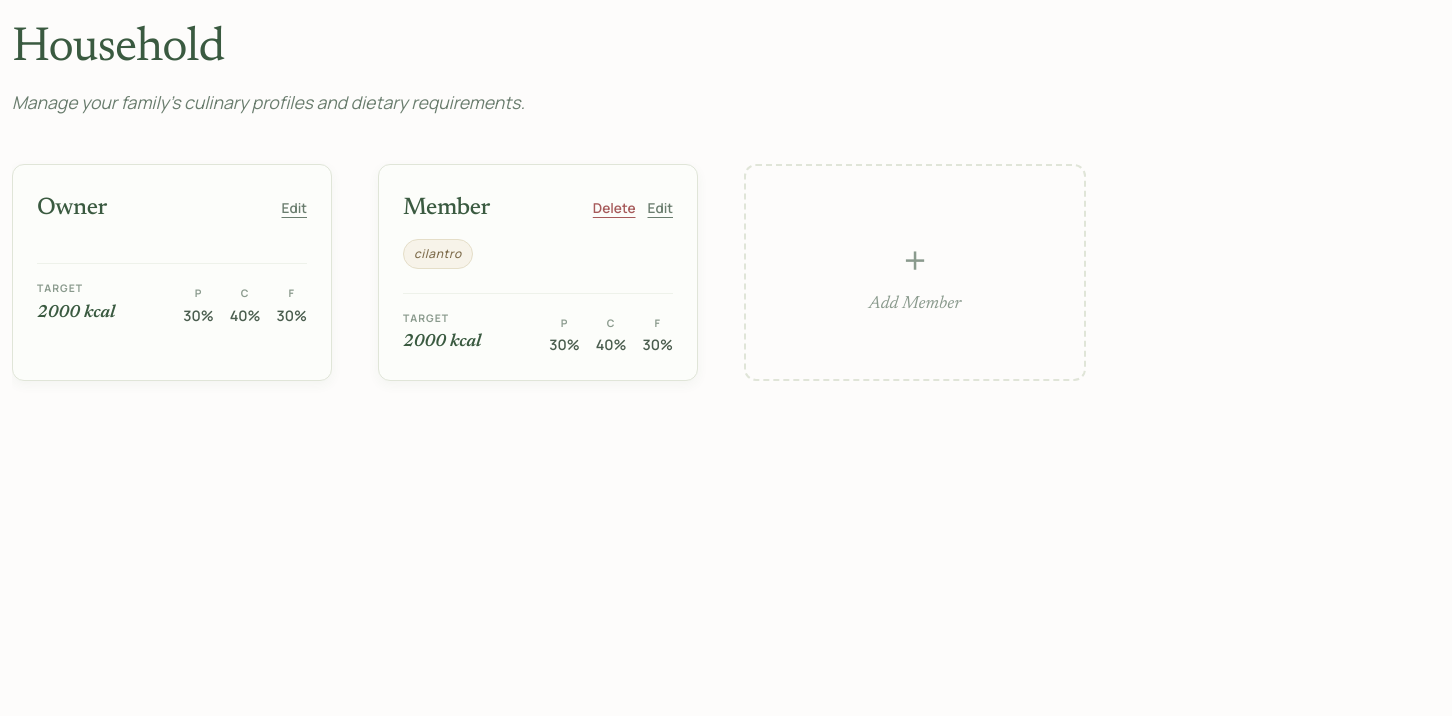
Test: Household Page Refinements › validates macros in ProfileForm (Manual Mode)
Expected: the heading "Member" is shown, [403,189,490,227]
Click edit on member
Click the 2nd button "Edit": {"x": 660, "y": 208} [648,199,673,217]
(page scrolled)
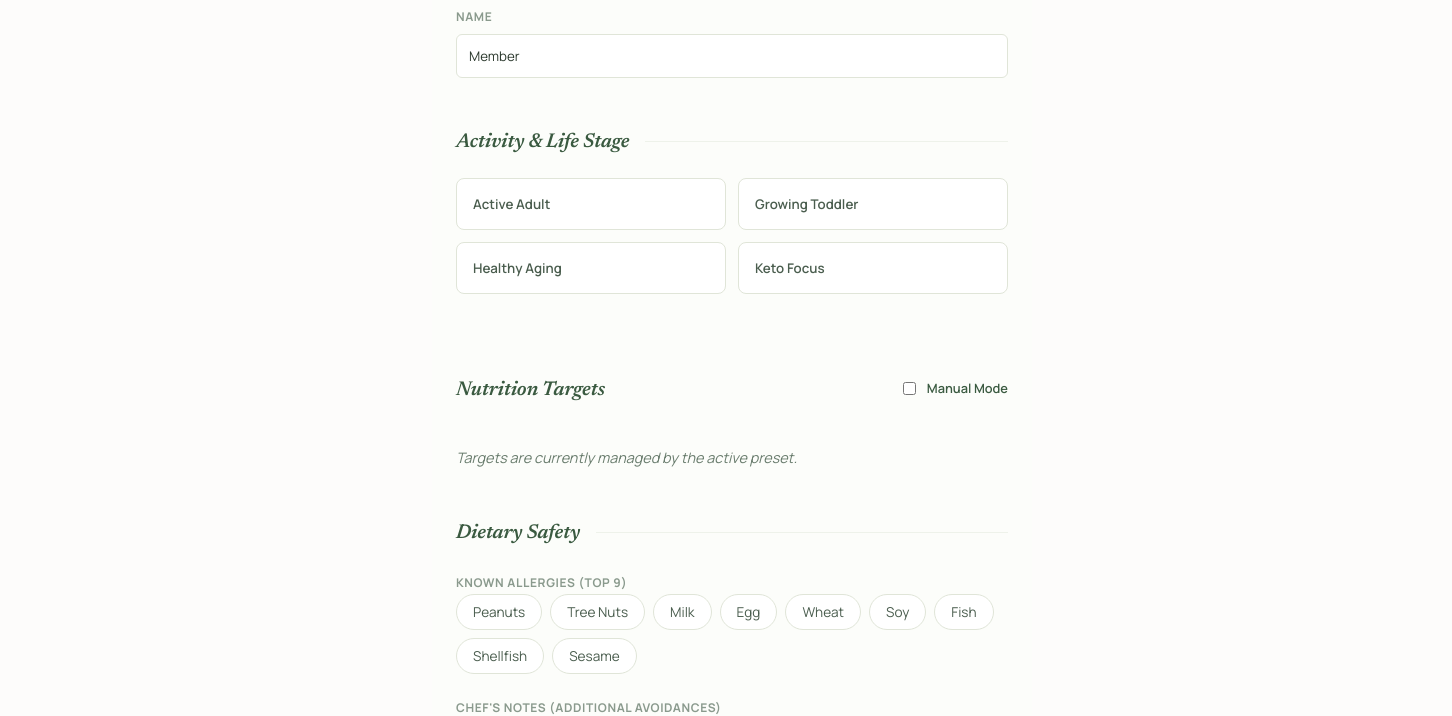
Toggle manual mode
Click the checkbox labelled "Manual Mode": {"x": 909, "y": 388} [903,382,916,395]
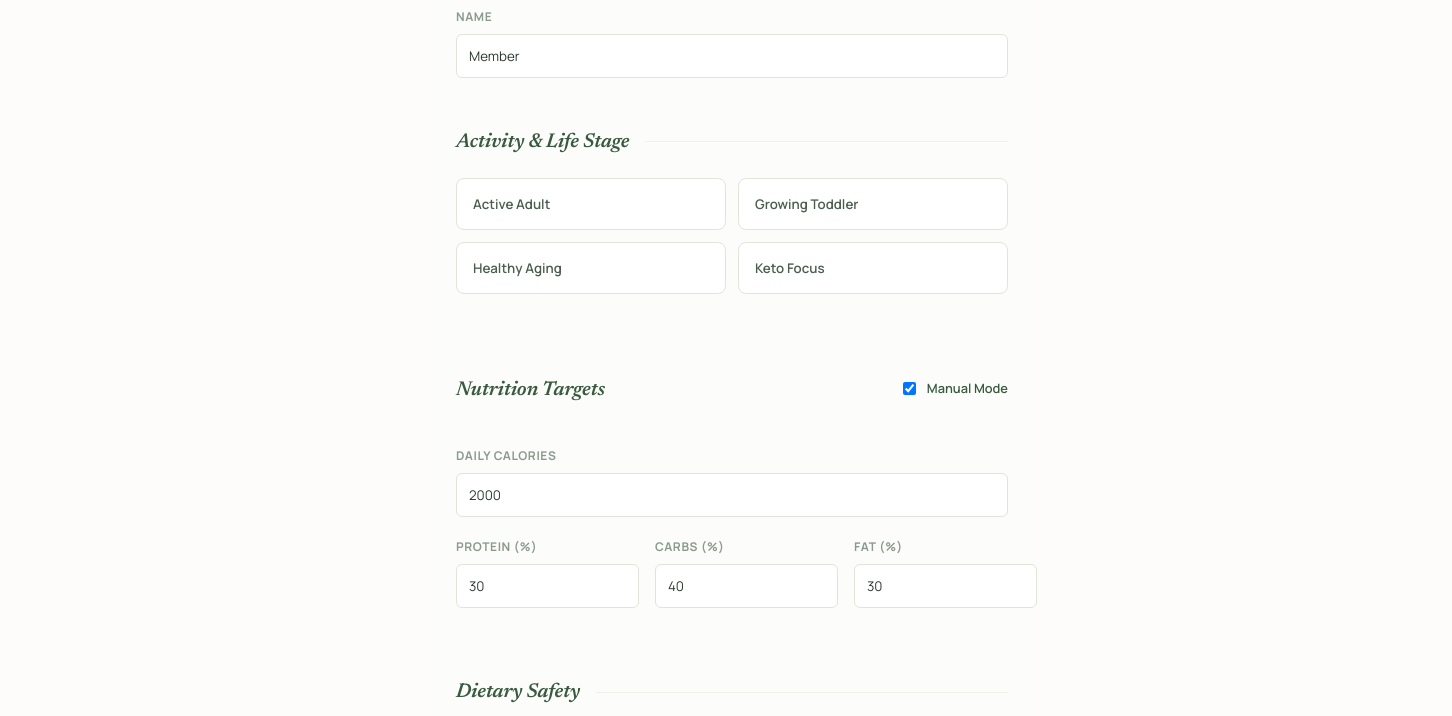
Replace the text in the number field labelled "Protein (%)" with "40": {"x": 548, "y": 586} [456,564,639,608]
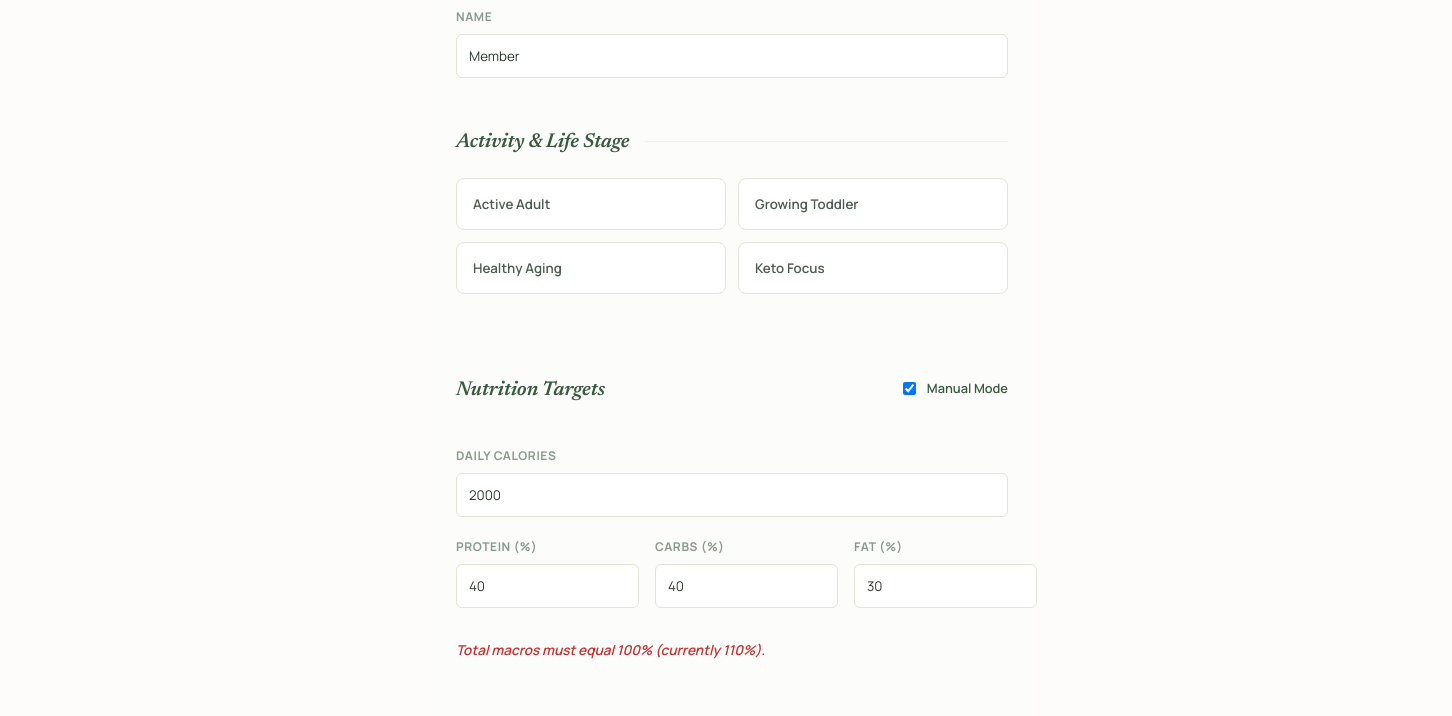
Now the text "Total macros must equal 100% (currently 110%)." is shown, box [456,641,765,659]
Replace the text in the number field labelled "Protein (%)" with "30": {"x": 548, "y": 586} [456,564,639,608]
(page scrolled)
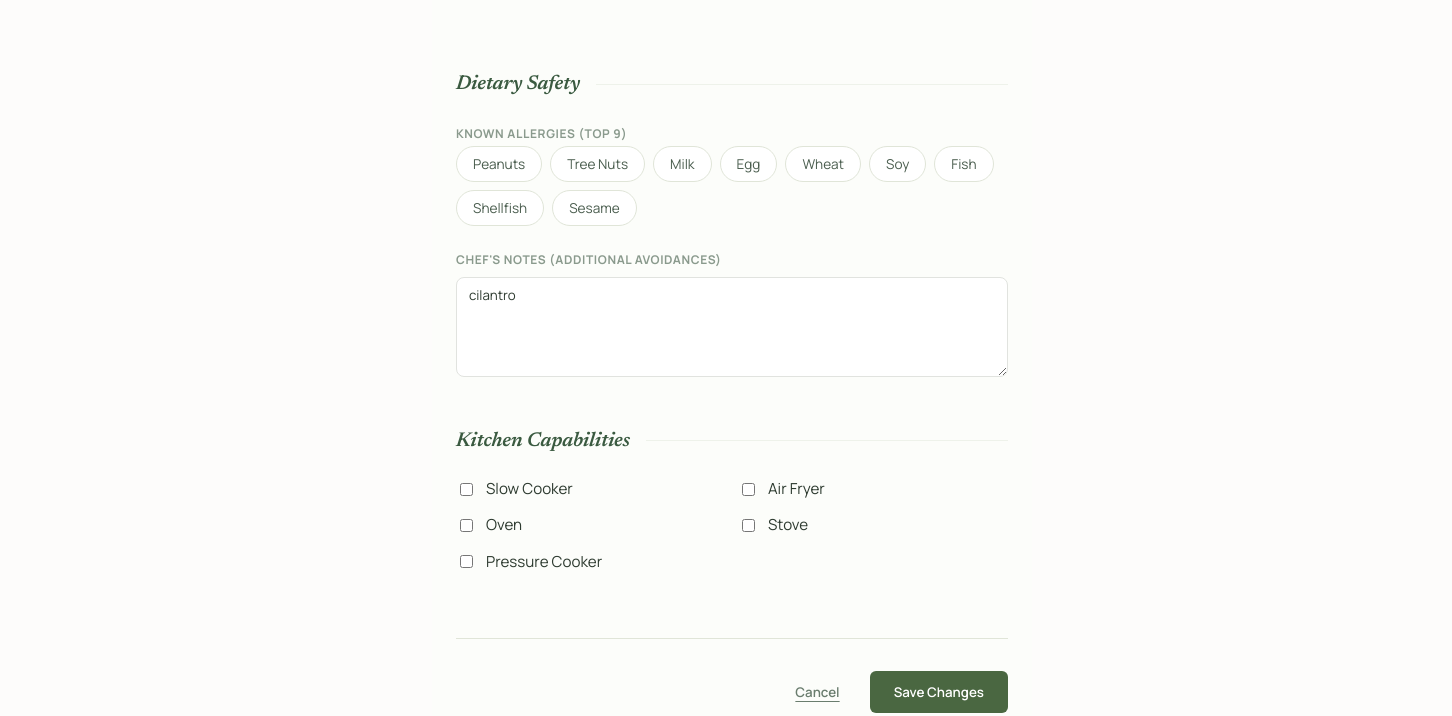
Now the button "Save Changes" is enabled, box [870,671,1008,713]
